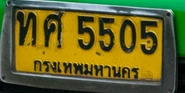txt18: (15, 10, 39, 49)
txt33: (42, 10, 67, 48)
